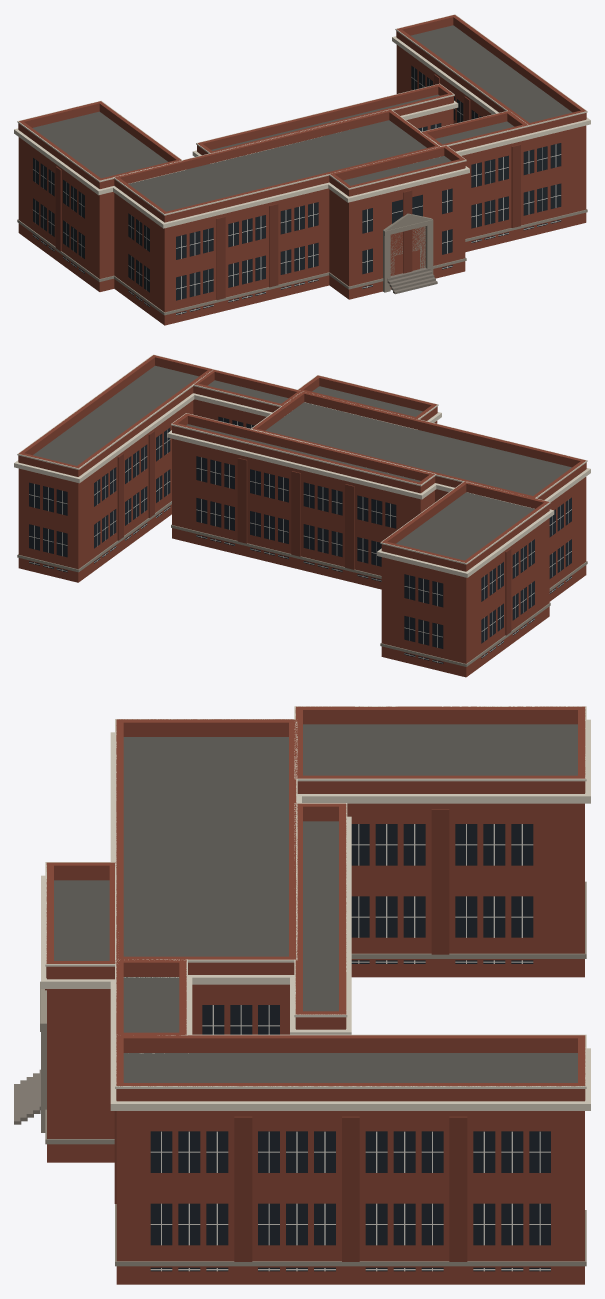
Rendered from asd-primary-hall-1961.glb.
3 views of the same model, one above another, from view 1: azimuth 30°, elevation 25°; view 2: azimuth 150°, elevation 25°; view 3: azimuth 270°, elevation 25° (orthographic). The views are drawn at different scales.
Parts seen in each view (by area): view 1: asd_brick, asd_tar, asd_glass, asd_trim, asd_brick2, asd_stone, asd_sash, asd_base; view 2: asd_brick, asd_tar, asd_glass, asd_trim, asd_brick2, asd_sash, asd_stone; view 3: asd_brick, asd_tar, asd_glass, asd_trim, asd_brick2, asd_stone, asd_sash, asd_base.
Part boxes in pixels (x1,y1,x2,y2): asd_brick: (18,15,586,325); asd_tar: (32,25,572,211); asd_glass: (33,65,561,315); asd_trim: (14,14,590,228); asd_brick2: (55,74,520,299); asd_stone: (17,209,587,315); asd_sash: (32,68,561,314); asd_base: (387,267,437,294); asd_brick: (18,355,586,677); asd_tar: (33,365,571,560); asd_glass: (29,416,571,663); asd_trim: (14,354,590,577); asd_brick2: (117,431,511,635); asd_sash: (29,418,571,663); asd_stone: (17,501,587,666); asd_brick: (46,706,585,1284); asd_tar: (54,724,577,1082); asd_glass: (150,824,550,1271); asd_trim: (41,706,590,1110); asd_brick2: (45,809,467,1261); asd_stone: (40,881,586,1266); asd_sash: (150,824,550,1271); asd_base: (14,1069,40,1124).
Size of the model in its own units: 45.6 by 11 by 28.95.
